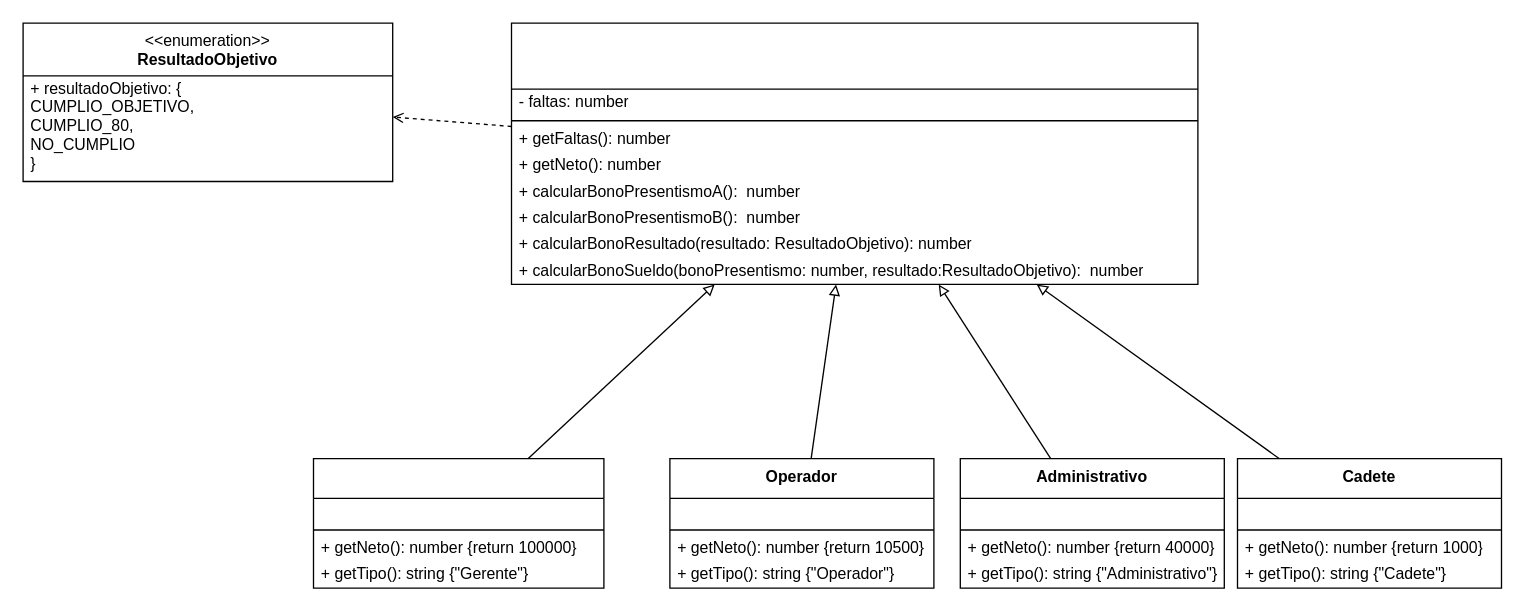
Image size: 1525x611. Some labels were removed from this diagram. Each missing label, with the box of its shape:
Empleado: (312, 457, 604, 588)
Empleado {abstract}: (510, 22, 1198, 284)
